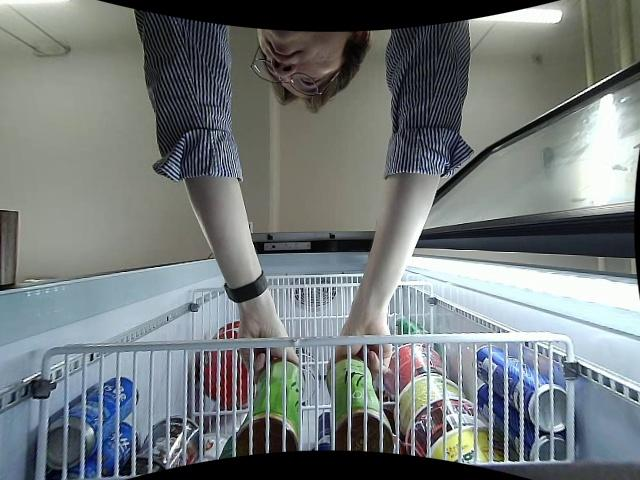00_hand: (326, 319, 393, 384), (236, 316, 302, 380)
19_17cha: (324, 356, 394, 456), (238, 357, 299, 458)
